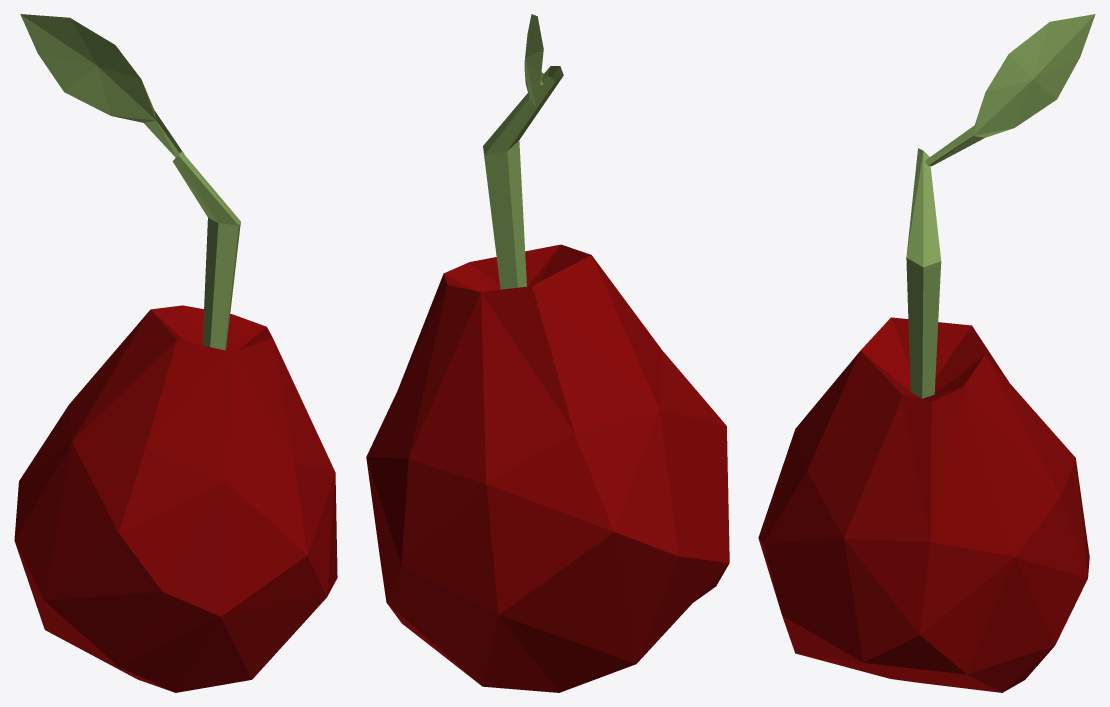
The model's file is apple_fruit_1.fbx.
The picture shows the model from 3 angles, left to right: view 1: azimuth 30°, elevation 25°; view 2: azimuth 150°, elevation 25°; view 3: azimuth 270°, elevation 25°; orthographic projection. The views are drawn at different scales.
Parts seen in each view (by area): view 1: Apple_0_5; view 2: Apple_0_5; view 3: Apple_0_5.
Boxes of the visible parts, bbox=[...] form: Apple_0_5: bbox=[14, 14, 337, 692]; Apple_0_5: bbox=[366, 14, 729, 692]; Apple_0_5: bbox=[758, 14, 1095, 692].
Bounding box in the file's own units: 15.93 × 32.51 × 15.51.
